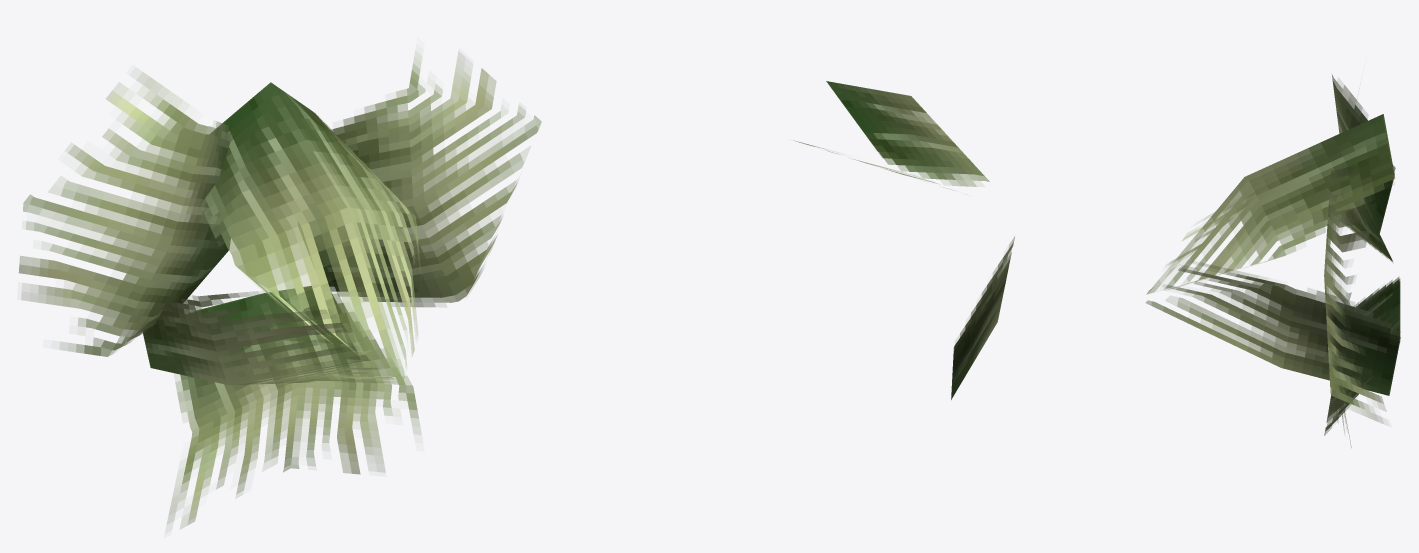
3 views of the same model, side by side, from view 1: azimuth 30°, elevation 25°; view 2: azimuth 150°, elevation 25°; view 3: azimuth 270°, elevation 25° (orthographic). The views are drawn at different scales.
Visible parts, largest first — view 1: model_Object23; view 2: model_Object23; view 3: model_Object23.
Boxes of the visible parts, x1=… form: model_Object23: x1=19, y1=51, x2=541, y2=528; model_Object23: x1=794, y1=81, x2=1014, y2=399; model_Object23: x1=1145, y1=74, x2=1400, y2=447.
Size of the model in its own units: 1.02 by 0.8758 by 0.5032.
Materials: 1 (1 with a texture image).
